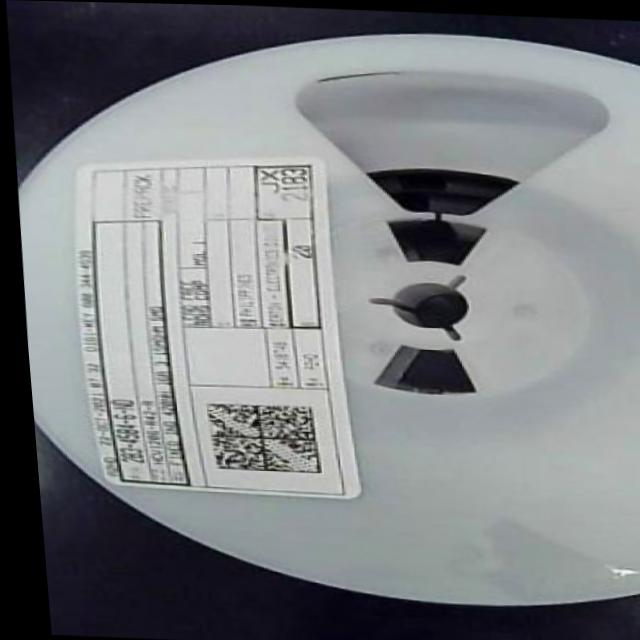datamatrix: (194, 398, 317, 474)
